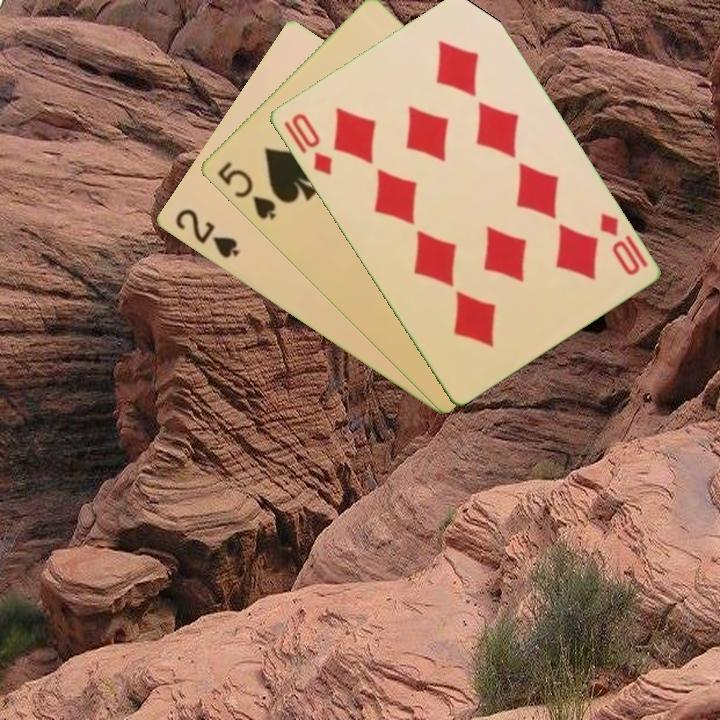10d: (595, 209, 643, 279), (287, 109, 335, 178)
2s: (171, 205, 242, 261)
5s: (213, 158, 278, 223)
